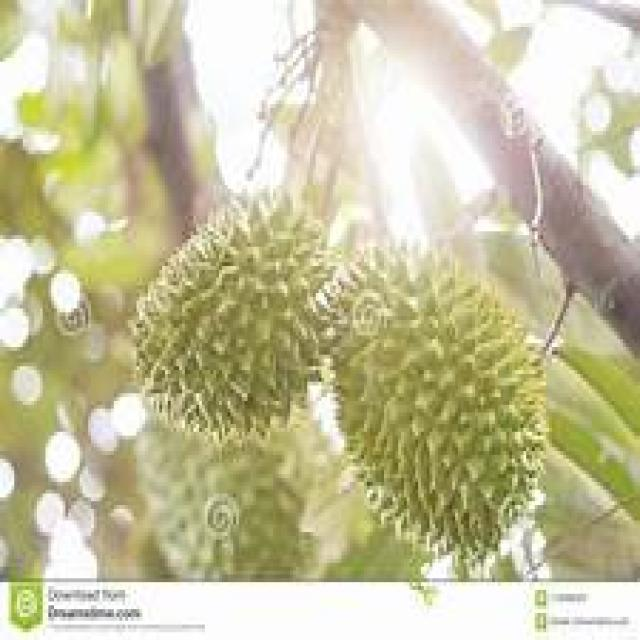immature: (327, 236, 551, 568), (131, 189, 338, 443)
